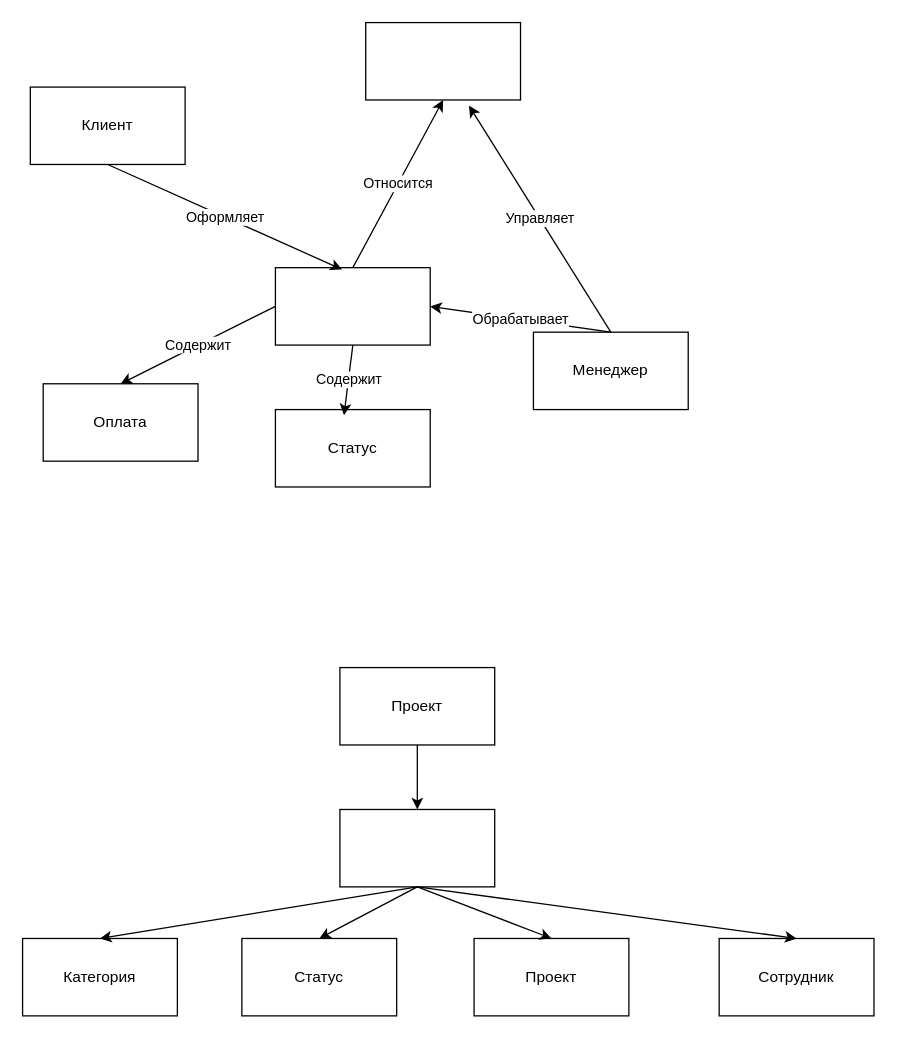
The diagram is 897 pixels wide and 1038 high, and some of its shapes have lost their labels. The centre of each missing label's shape, as x and y in pixels:
Бронирование: point (352, 305)
Задача: point (417, 847)
Туристическое предложение: point (442, 60)
